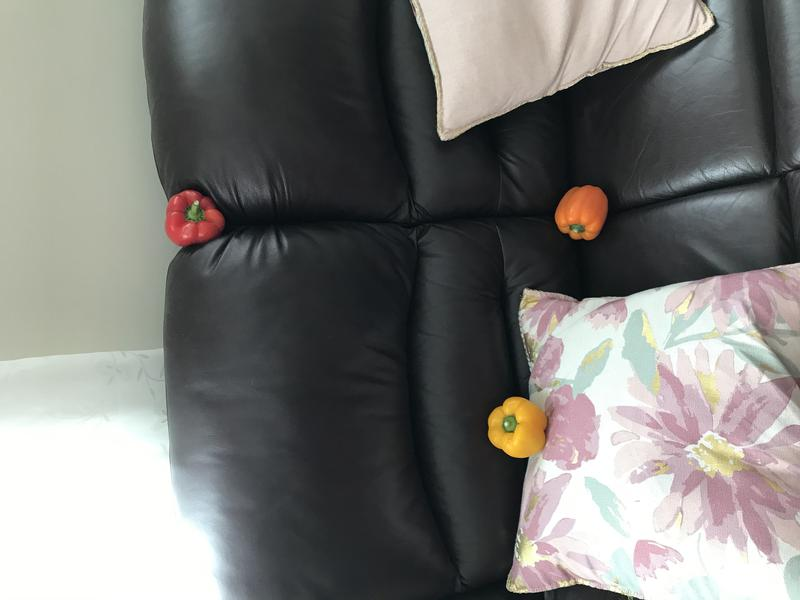orange_pepper: (545, 175, 612, 249)
red_pepper: (160, 183, 230, 247)
yellow_pepper: (482, 390, 549, 460)
